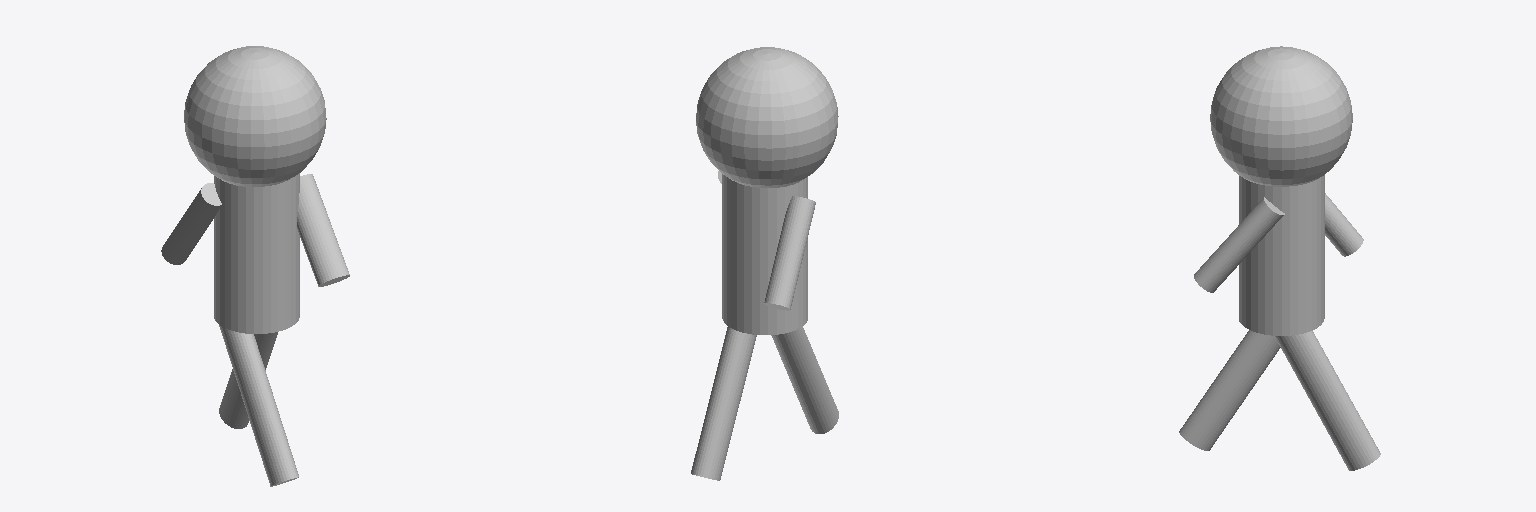
Rendered from orig1.obj.
3 views of the same model, side by side, from view 1: azimuth 30°, elevation 25°; view 2: azimuth 150°, elevation 25°; view 3: azimuth 270°, elevation 25° (orthographic).
Parts seen in each view (by area): view 1: Cylinder.005_Cylinder.006; view 2: Cylinder.005_Cylinder.006; view 3: Cylinder.005_Cylinder.006.
Boxes of the visible parts, x1=… form: Cylinder.005_Cylinder.006: x1=161, y1=46, x2=349, y2=486; Cylinder.005_Cylinder.006: x1=691, y1=47, x2=838, y2=480; Cylinder.005_Cylinder.006: x1=1179, y1=46, x2=1380, y2=470.
Size of the model in its own units: 0.376 by 1.18 by 0.5299.